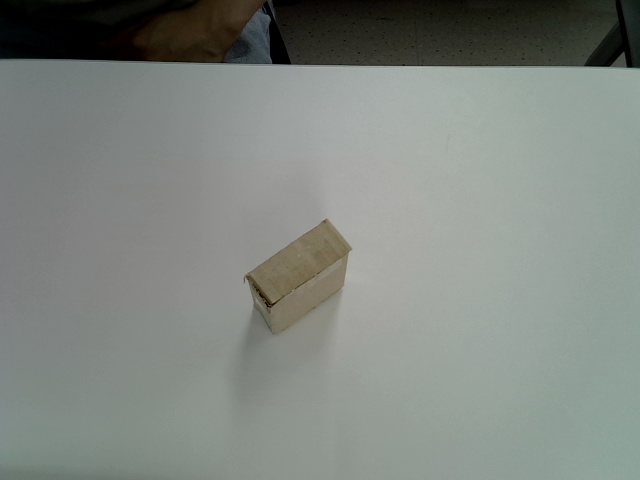normal: (244, 218, 352, 334)
